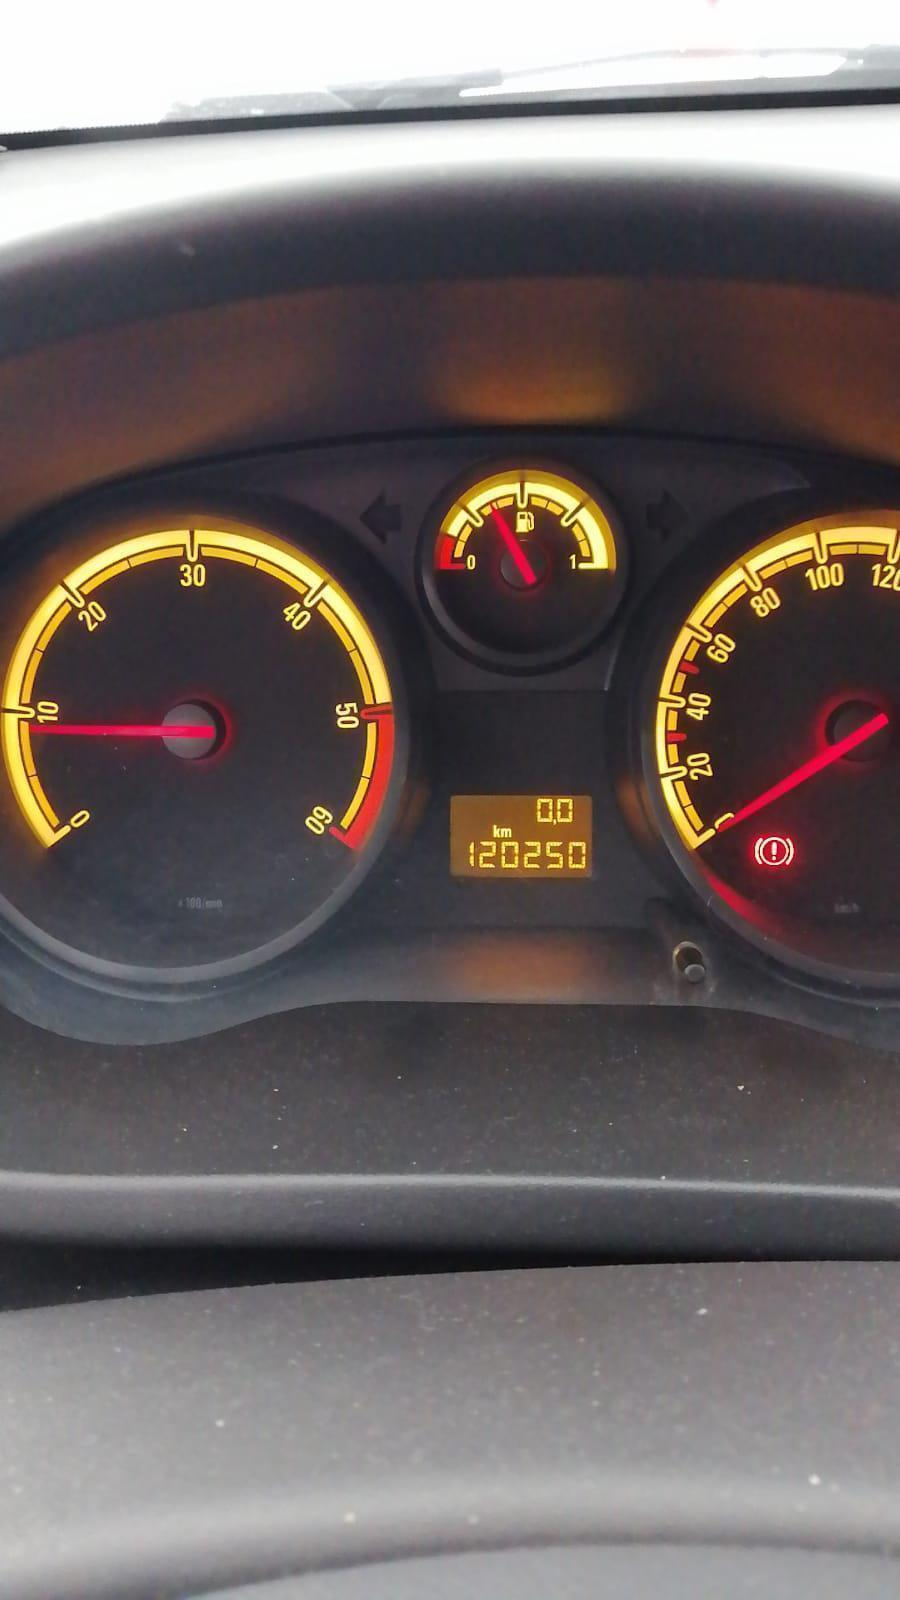,: (552, 818, 557, 826)
0: (567, 841, 586, 869), (500, 841, 519, 868), (535, 798, 553, 823), (556, 798, 573, 823)
1: (468, 841, 474, 867)
2: (522, 840, 541, 868), (478, 840, 496, 868)
5: (544, 841, 563, 869)
X: (500, 827, 512, 837), (492, 824, 500, 837)
odometer: (447, 793, 595, 880)
